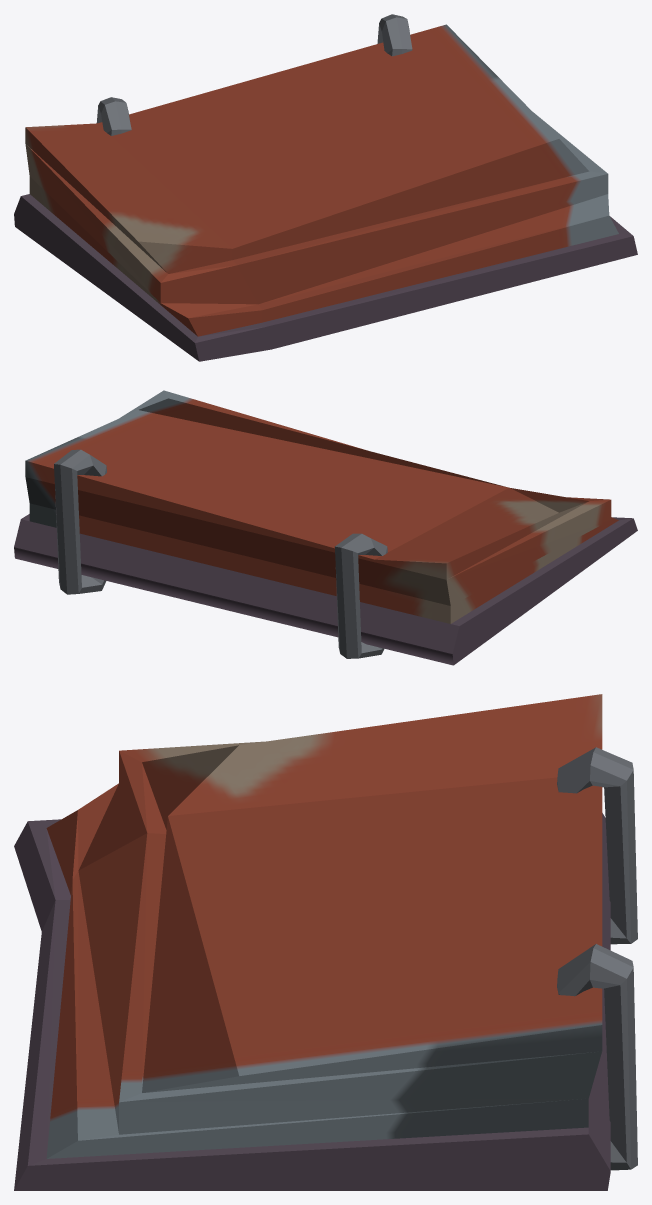
File: Book_broken.fbx
The picture shows the model from 3 angles, top to bottom: view 1: azimuth 30°, elevation 25°; view 2: azimuth 150°, elevation 25°; view 3: azimuth 270°, elevation 25°; orthographic projection. The views are drawn at different scales.
Parts seen in each view (by area): view 1: Book_broken; view 2: Book_broken; view 3: Book_broken.
Part boxes in pixels (box(x1,y1,x2,y2)): Book_broken: box(14, 14, 637, 361); Book_broken: box(14, 390, 637, 665); Book_broken: box(14, 694, 637, 1190).
Size of the model in its own units: 0.699 by 0.21 by 0.5242.
Materials: 1 (1 with a texture image).
